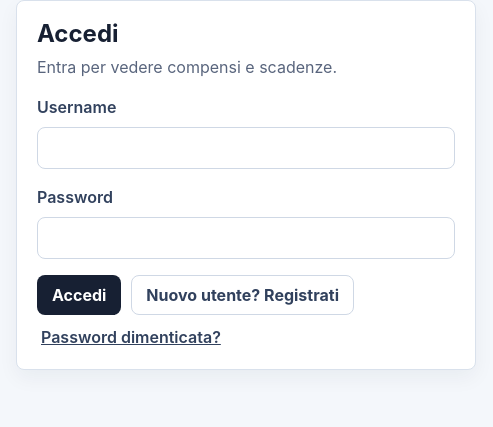
Test: Login › shows a friendly message on wrong credentials
The width and height of the screenshot is (493, 427).
Step 1. Type "mario" into the field labelled "Username" → (246, 148), box [37,127,455,169]
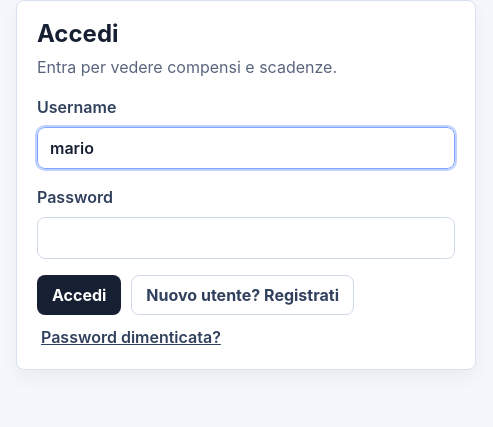
Step 2. Type "sbagliata" into the password field labelled "Password" → (246, 238), box [37,217,455,259]
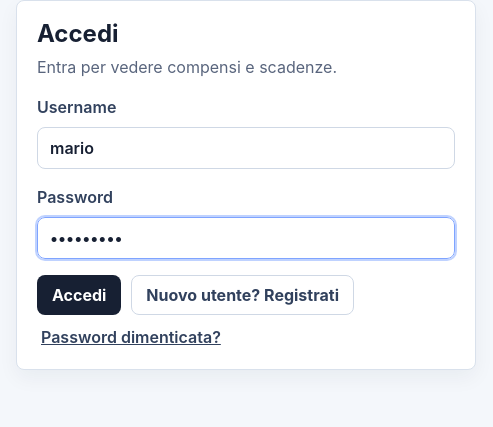
Step 3. Click the button "Accedi" → (79, 295), box [37,275,121,315]
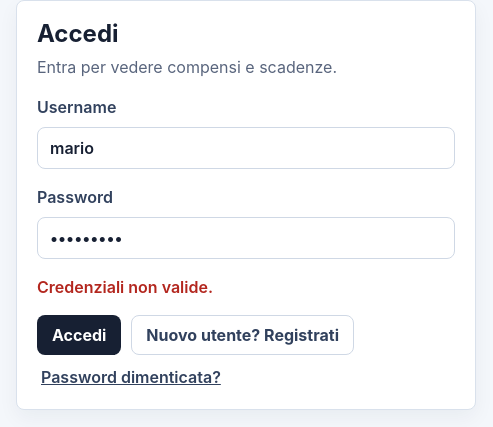
Expected: the text "Credenziali non valide." is shown, [37,277,213,297]
